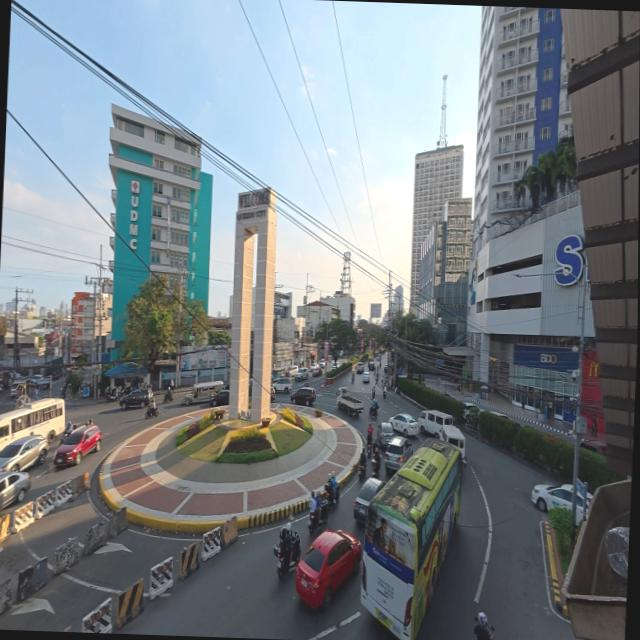Jeepneys: (183, 381, 223, 405)
bus: (362, 439, 463, 639), (0, 398, 65, 451)
car: (296, 530, 362, 608), (54, 426, 101, 465), (0, 436, 48, 473), (354, 478, 384, 524), (0, 472, 31, 511), (531, 484, 572, 512), (386, 438, 412, 473), (119, 388, 153, 410), (389, 413, 419, 436), (377, 422, 394, 449), (580, 439, 607, 456), (291, 387, 315, 406), (211, 390, 229, 407), (463, 403, 482, 419), (276, 377, 292, 393), (11, 380, 26, 397), (489, 411, 511, 420), (295, 367, 309, 381), (30, 373, 43, 384), (288, 364, 298, 376), (313, 366, 322, 377), (270, 386, 276, 402), (310, 363, 319, 373), (368, 359, 375, 371), (356, 362, 363, 373), (363, 372, 370, 382), (319, 361, 325, 369), (384, 364, 388, 373), (376, 355, 381, 362), (338, 351, 342, 357)
motorcycle: (274, 528, 301, 579), (308, 501, 328, 534), (59, 423, 79, 446), (325, 482, 340, 507), (372, 457, 381, 478), (145, 406, 159, 419), (358, 463, 367, 480), (107, 391, 120, 402), (367, 434, 373, 455), (163, 391, 173, 403), (369, 407, 378, 419), (383, 390, 387, 399), (351, 374, 354, 383), (490, 627, 494, 632)
trucks: (338, 387, 364, 415)
vans: (442, 425, 466, 465), (426, 410, 452, 438)
